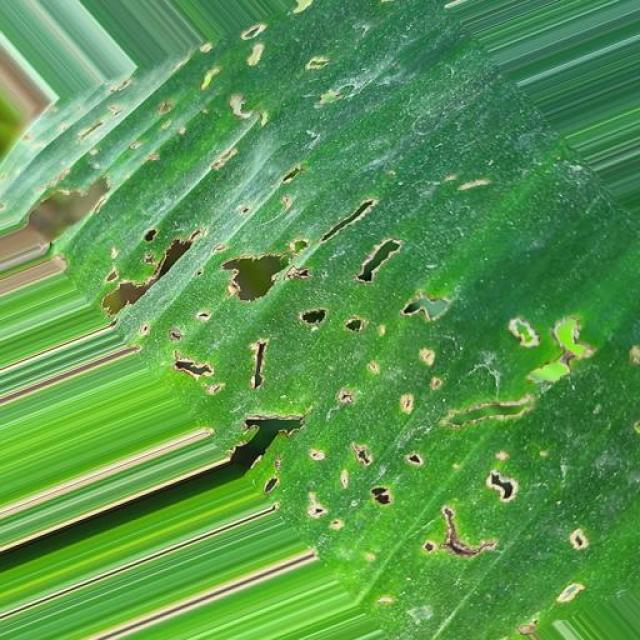Black_rot: (22, 3, 640, 640)
